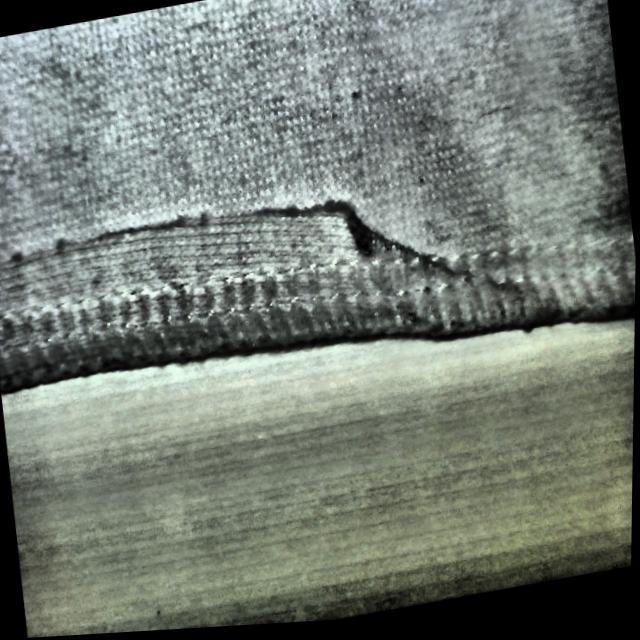seam: (0, 141, 423, 399)
